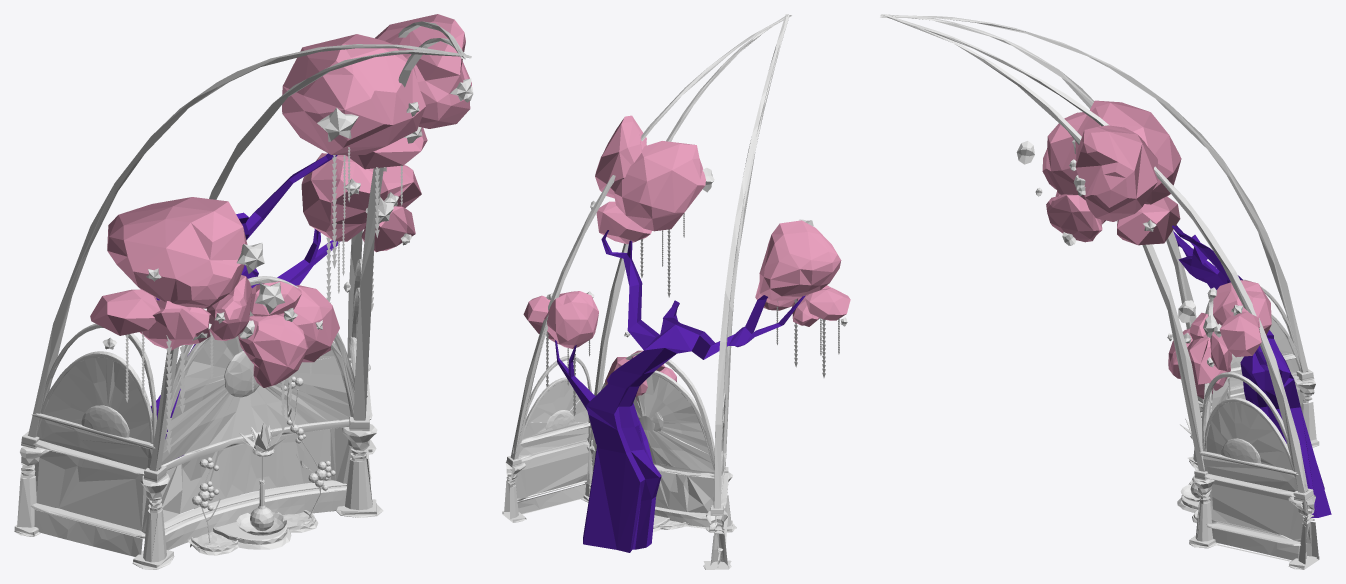
Rendered from pillier.FBX.
3 renders of one model, left to right at view 1: azimuth 30°, elevation 25°; view 2: azimuth 150°, elevation 25°; view 3: azimuth 270°, elevation 25°, orthographic. The views are drawn at different scales.
Visible parts, largest first — view 1: feuilles003, fond003, arc003, rayons007, rayons008, Object109, mur003, face004, arche petites003, colonne005, tronc002, Object140 (+17 smaller); view 2: feuilles003, tronc002, arc003, fond003, rayons008, rayons007, arche petites003, mur003, face004, colonne005, basecolonne003, Object140 (+2 smaller); view 3: feuilles003, arc003, fond003, tronc002, arche petites003, mur003, rayons008, Object109, rayons007, colonne005, basecolonne003, face004 (+3 smaller).
Boxes of the visible parts, x1=… form: feuilles003: x1=90, y1=14, x2=471, y2=350; fond003: x1=34, y1=336, x2=356, y2=533; arc003: x1=28, y1=21, x2=471, y2=471; rayons007: x1=53, y1=311, x2=358, y2=461; rayons008: x1=43, y1=303, x2=358, y2=465; Object109: x1=238, y1=281, x2=339, y2=387; mur003: x1=30, y1=338, x2=372, y2=547; face004: x1=34, y1=489, x2=346, y2=556; arche petites003: x1=31, y1=259, x2=362, y2=444; colonne005: x1=14, y1=364, x2=383, y2=569; tronc002: x1=150, y1=153, x2=340, y2=458; Object140: x1=17, y1=464, x2=166, y2=562; feuilles003: x1=523, y1=115, x2=850, y2=348; tronc002: x1=555, y1=230, x2=805, y2=552; arc003: x1=510, y1=14, x2=791, y2=508; fond003: x1=512, y1=423, x2=721, y2=549; rayons008: x1=522, y1=377, x2=722, y2=471; rayons007: x1=528, y1=374, x2=722, y2=470; arche petites003: x1=513, y1=352, x2=725, y2=508; mur003: x1=510, y1=414, x2=729, y2=567; face004: x1=517, y1=483, x2=722, y2=561; colonne005: x1=502, y1=445, x2=736, y2=569; basecolonne003: x1=504, y1=459, x2=593, y2=519; Object140: x1=710, y1=489, x2=731, y2=565; feuilles003: x1=1042, y1=100, x2=1271, y2=371; arc003: x1=880, y1=14, x2=1308, y2=492; fond003: x1=1203, y1=355, x2=1310, y2=543; tronc002: x1=1172, y1=225, x2=1331, y2=517; arche petites003: x1=1202, y1=279, x2=1305, y2=493; mur003: x1=1192, y1=352, x2=1309, y2=561; rayons008: x1=1206, y1=319, x2=1292, y2=470; Object109: x1=1168, y1=312, x2=1230, y2=399; rayons007: x1=1207, y1=321, x2=1285, y2=452; colonne005: x1=1187, y1=379, x2=1319, y2=569; basecolonne003: x1=1195, y1=492, x2=1318, y2=564; face004: x1=1211, y1=528, x2=1307, y2=560.
Bounding box in the file's own units: 10.07 × 14.66 × 12.28.
